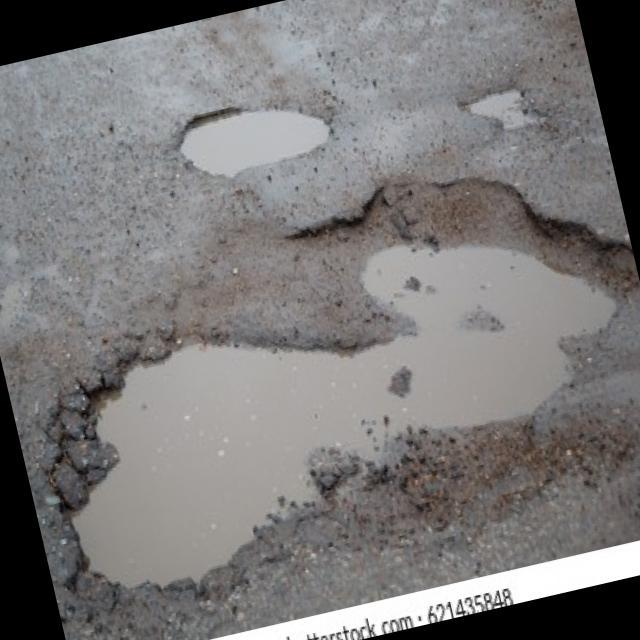Pothole: (5, 134, 640, 629), (172, 84, 338, 188)
